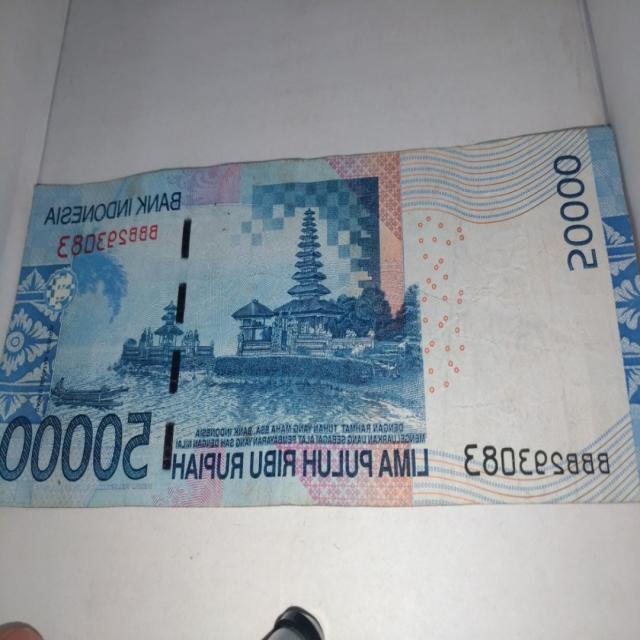lima puluh ribu rupiah: (0, 112, 629, 533)
